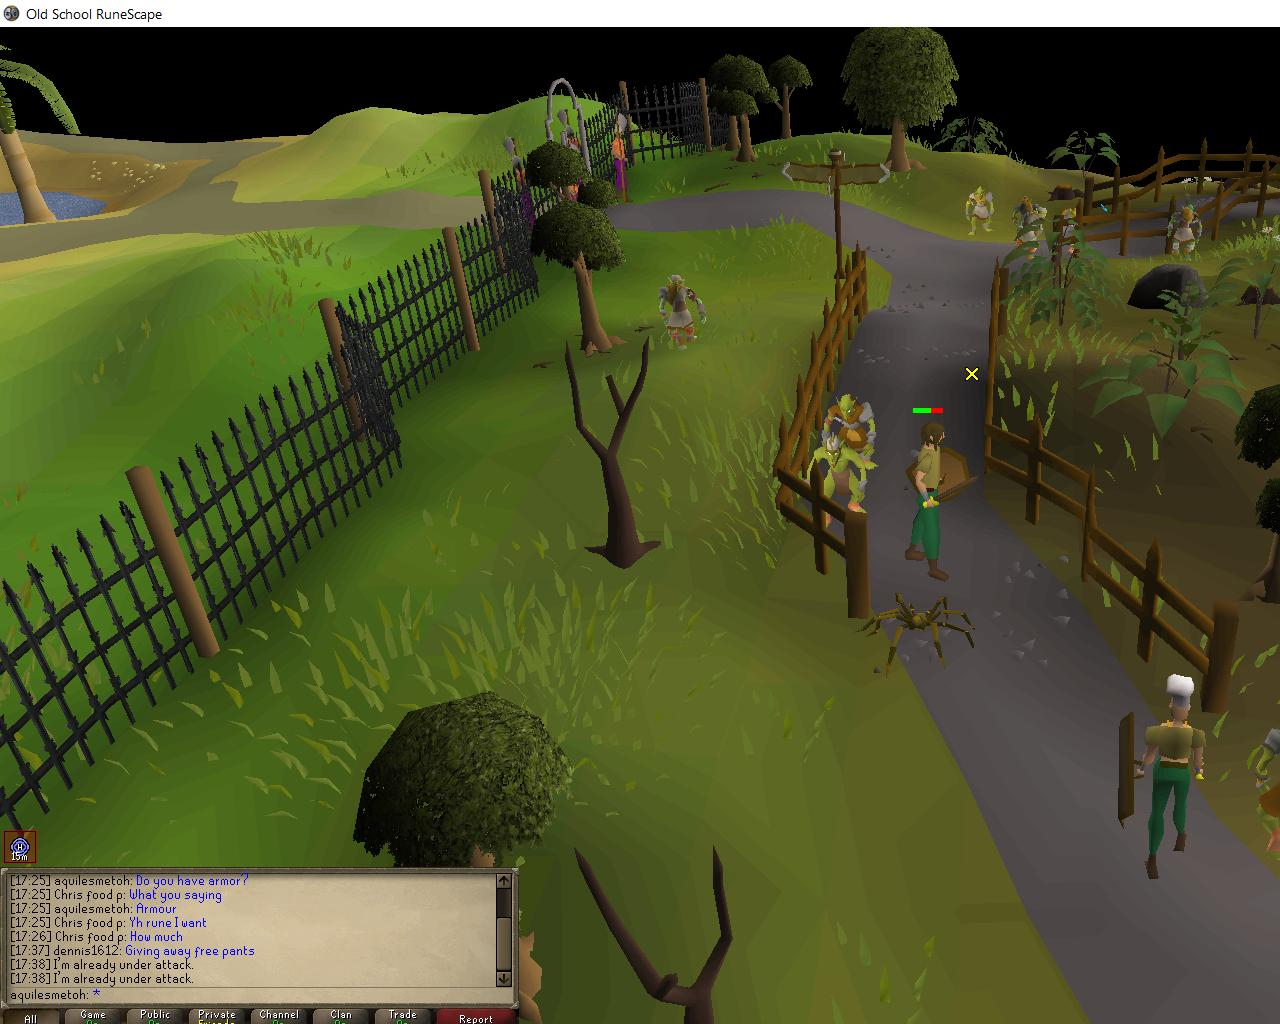Goblin: (800, 436, 868, 527), (820, 392, 880, 478), (657, 273, 708, 348), (1166, 204, 1203, 260), (1015, 207, 1047, 261), (965, 186, 995, 237), (1013, 195, 1043, 241), (1056, 204, 1081, 259)
